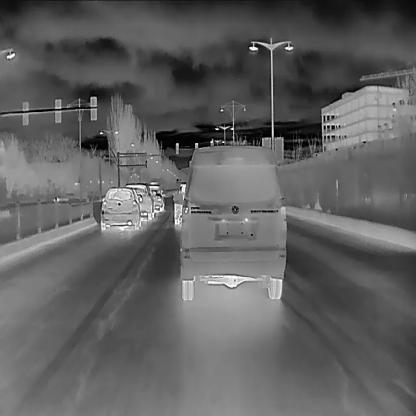car: (172, 143, 287, 301), (100, 185, 142, 230), (124, 181, 154, 219), (171, 180, 187, 226), (147, 180, 165, 212), (150, 189, 163, 212)
